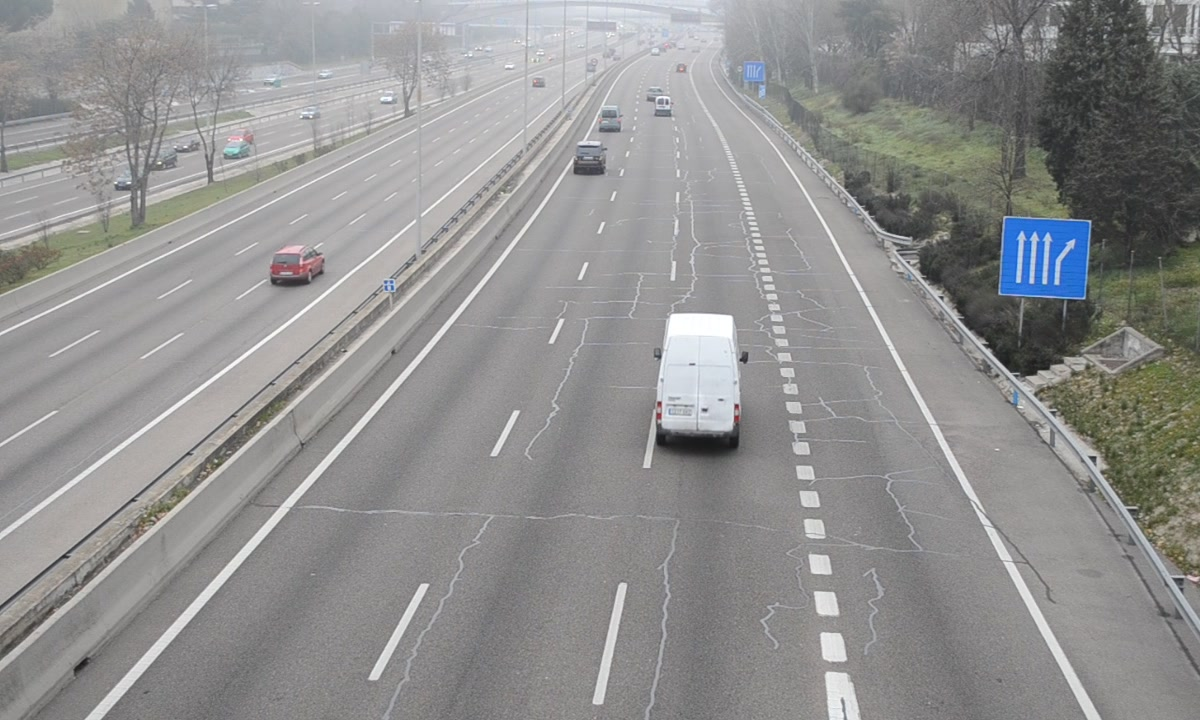car: (573, 141, 606, 173)
van: (656, 312, 741, 448), (597, 105, 619, 133)
